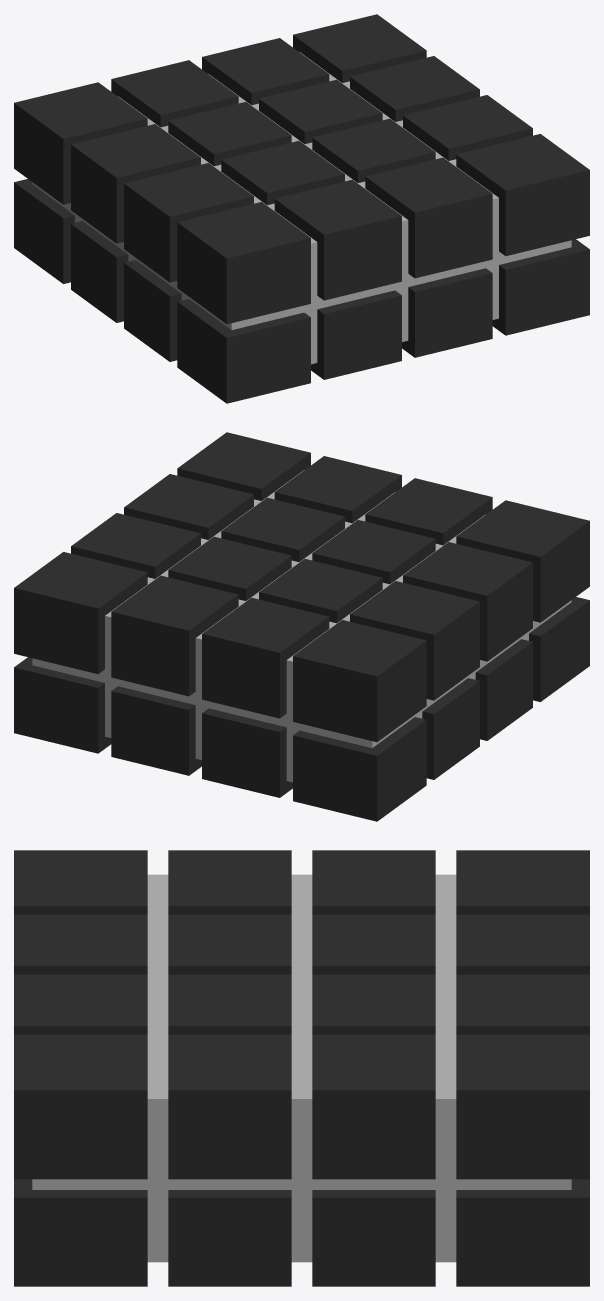
Rendered from Cube_Platform.fbx.
3 views of the same model, one above another, from view 1: azimuth 30°, elevation 25°; view 2: azimuth 150°, elevation 25°; view 3: azimuth 270°, elevation 25° (orthographic). The views are drawn at different scales.
Visible parts, largest first — view 1: Cube_Platform; view 2: Cube_Platform; view 3: Cube_Platform.
Part boxes in pixels (bbox=[...]): Cube_Platform: bbox=[14, 14, 589, 403]; Cube_Platform: bbox=[14, 432, 589, 821]; Cube_Platform: bbox=[14, 850, 589, 1286].
Bounding box in the file's own units: 1.26 × 0.4805 × 1.28.
